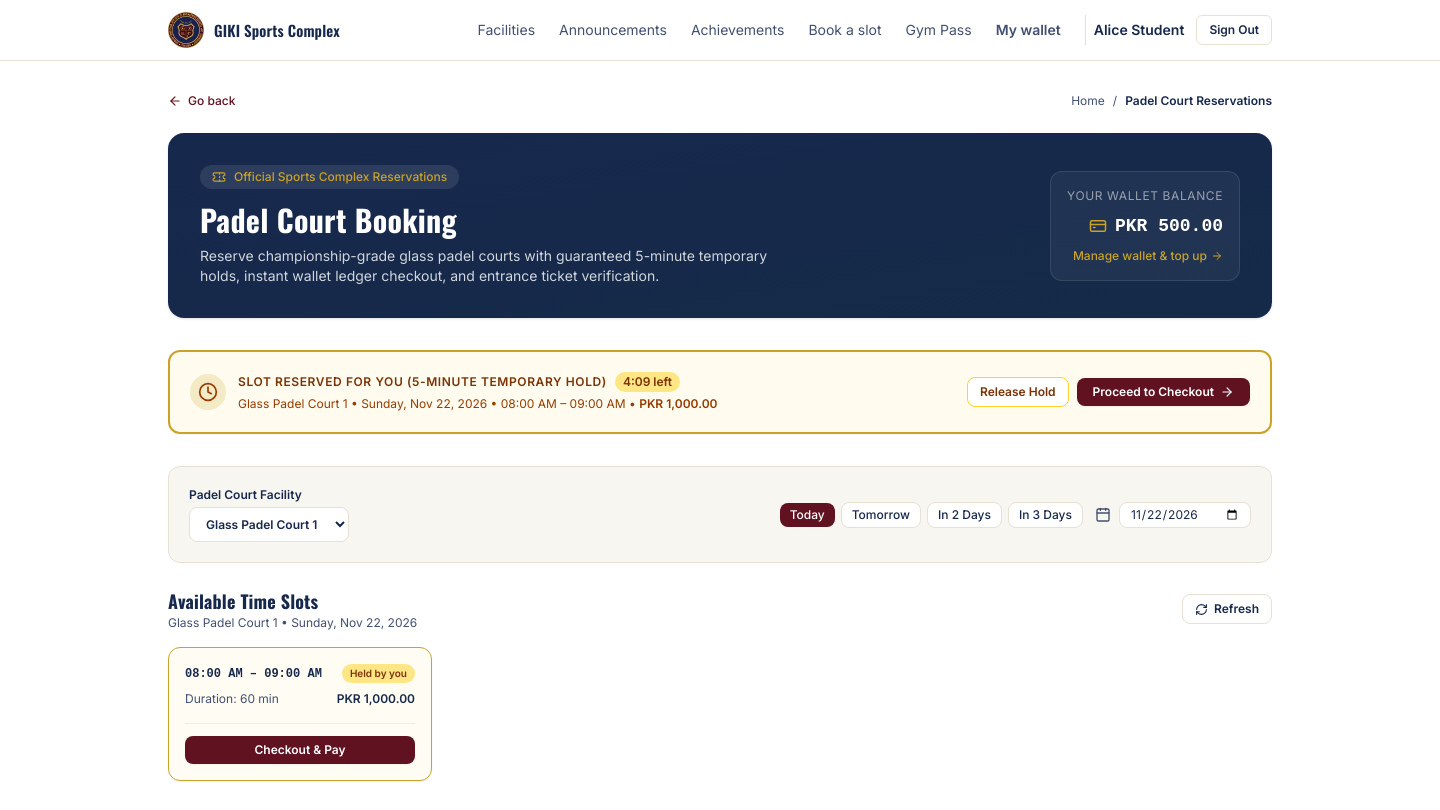
it: Padel Court Booking Client (Step 12I) › opens checkout modal, warns when wallet funds are insufficient, and disables Confirm & Pay
# Click Proceed to Checkout in banner
Step 1. Click the button "Proceed to Checkout" → point(1163, 392), box [1077,378,1250,406]
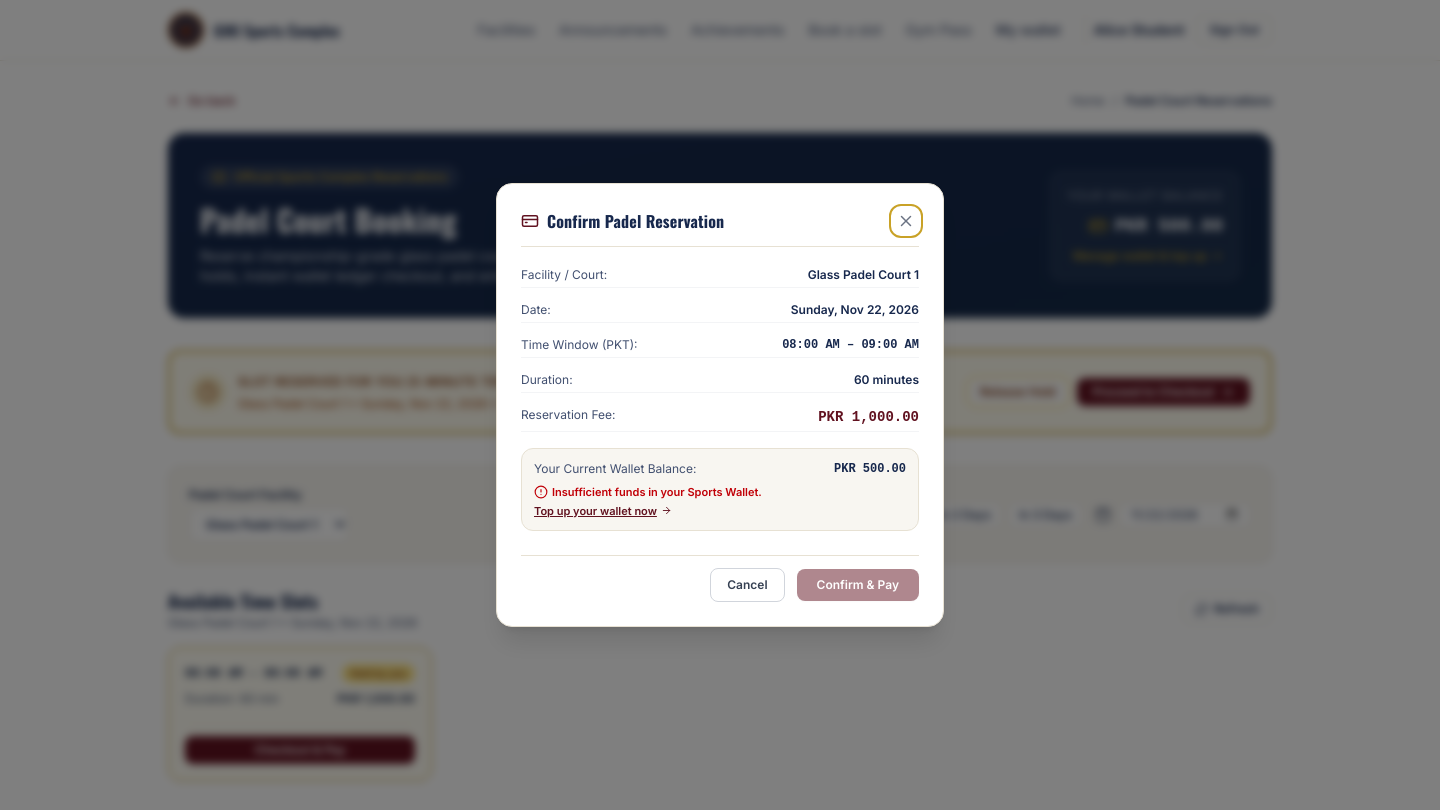
Expected: the dialog is shown
Expected: the heading "Confirm Padel Reservation" is shown, [547,209,724,233]
Expected: the text "Reservation Fee:" is shown, [521,407,616,427]
Step 2. Press Escape in the dialog
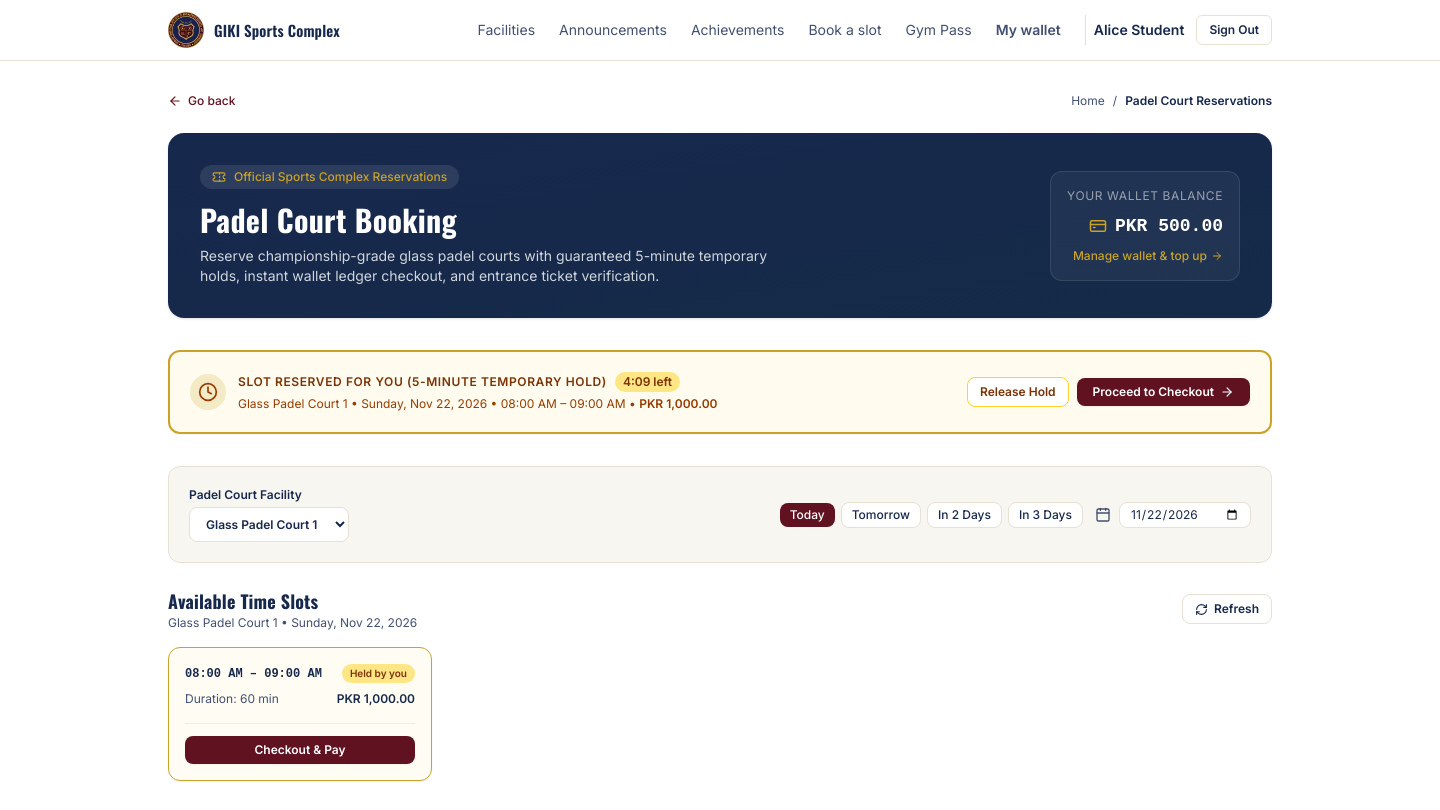
Expected: the dialog is gone
